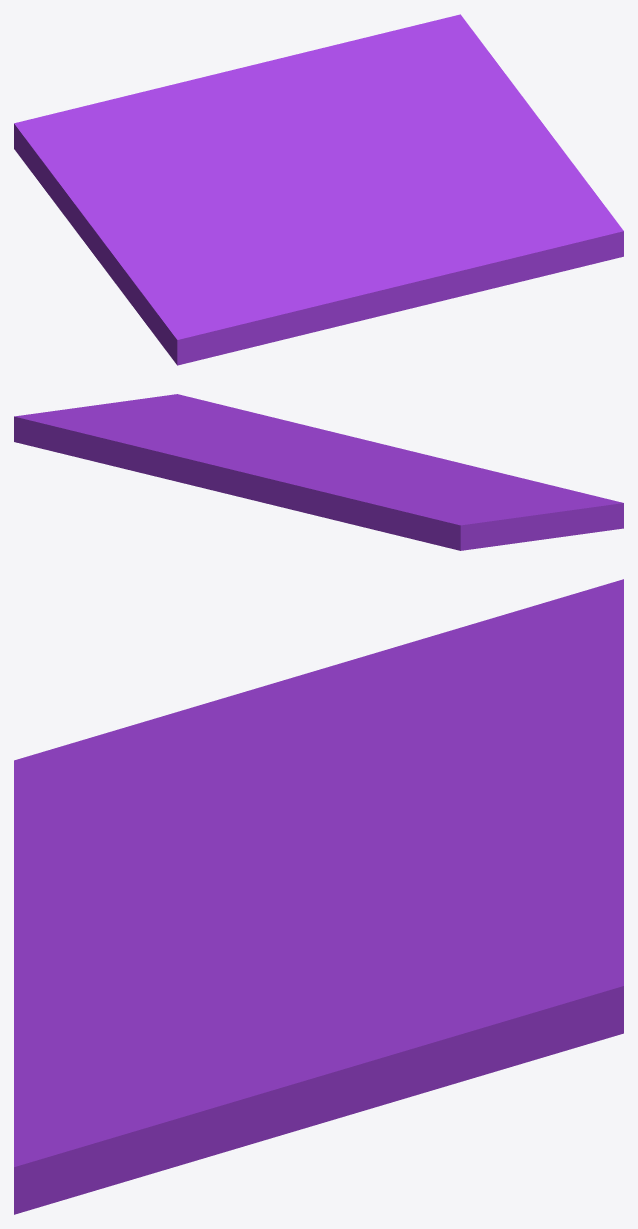
File: Window_166_chunks.fbx
3 views of the same model, one above another, from view 1: azimuth 30°, elevation 25°; view 2: azimuth 150°, elevation 25°; view 3: azimuth 270°, elevation 25° (orthographic). The views are drawn at different scales.
Visible parts, largest first — view 1: Window_166_1, Window_166_3, Window_166_2, Window_166_0; view 2: Window_166_1, Window_166_2, Window_166_3, Window_166_0; view 3: Window_166_1, Window_166_3, Window_166_2, Window_166_0.
Boxes of the visible parts, x1,y1,x2,y2 form: Window_166_1: [14, 92, 326, 365]; Window_166_3: [311, 52, 623, 252]; Window_166_2: [143, 14, 488, 169]; Window_166_0: [270, 196, 623, 342]; Window_166_1: [315, 459, 623, 550]; Window_166_2: [14, 412, 341, 521]; Window_166_3: [43, 394, 337, 460]; Window_166_0: [243, 410, 502, 473]; Window_166_1: [14, 579, 623, 882]; Window_166_3: [14, 865, 517, 1210]; Window_166_2: [341, 696, 623, 1078]; Window_166_0: [14, 869, 268, 1214].
Size of the model in its own units: 1838 by 482 by 1165.
